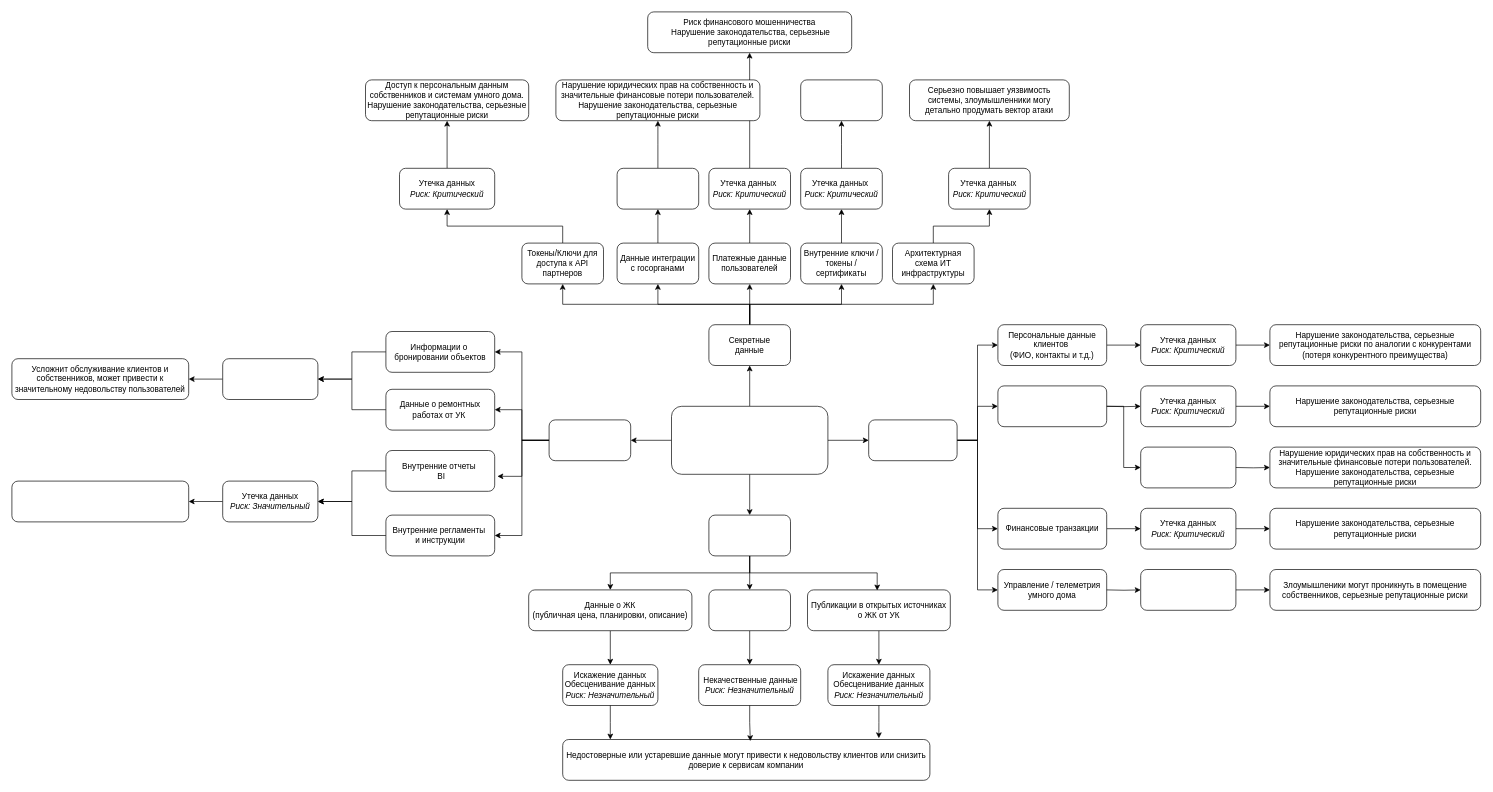
The diagram is 1493 pixels wide and 792 high, and some of its shapes have lost their labels. Each missing label, with the centre of its shape:
"Безопасность данных" goes at [749,440].
"Внутренние данные" goes at [589,440].
"Данные онлайн-сделок" goes at [1052,406].
"Искажение данных Риск: Критический" goes at [1188,467].
"Конфиденциальные данные" goes at [912,440].
"Критическая уязвимость всей системы" goes at [841,100].
"Маркетинговые данные компании" goes at [749,610].
"Может привести к утрате конкурентных преимуществ и помочь конкурентам" goes at [100,501].
"Потеря / Искажение данных Риск: Значительный" goes at [270,379].
"Публичные данные" goes at [749,535].
"Утечка / Искажение данных Риск: Критический" goes at [657,188].
"Утечка данных / Искажение данных Риск: Критический" goes at [1188,589].
